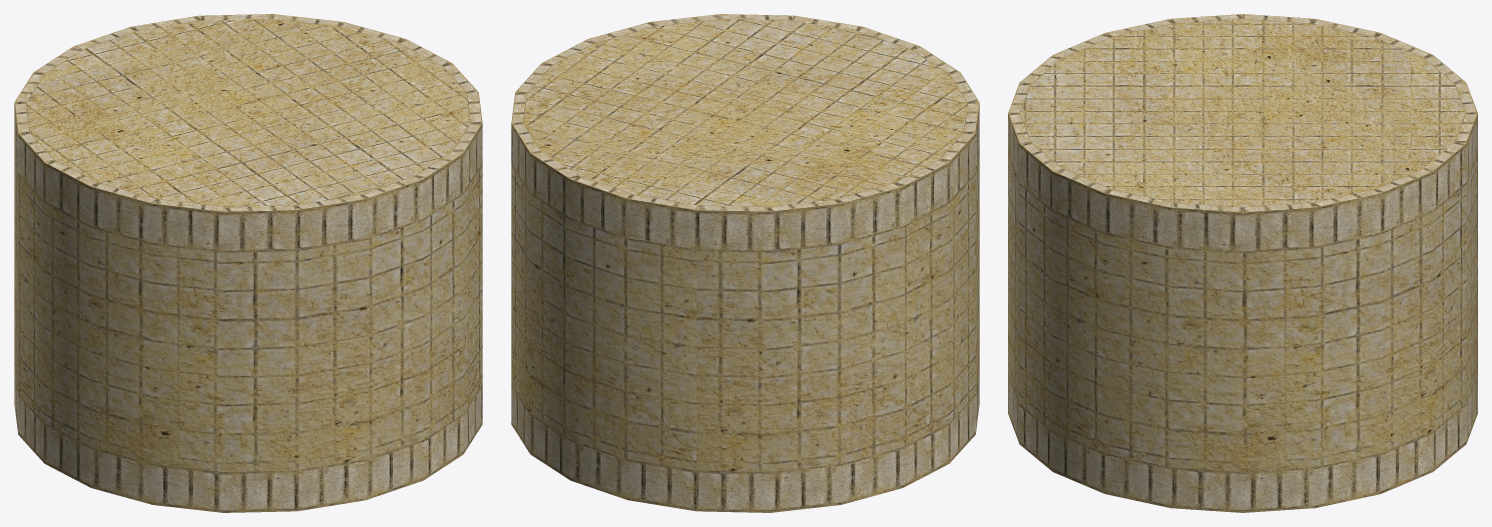
File: desert_16cylinder.dae
The picture shows the model from 3 angles, left to right: view 1: azimuth 30°, elevation 25°; view 2: azimuth 150°, elevation 25°; view 3: azimuth 270°, elevation 25°; orthographic projection.
Visible parts, largest first — view 1: desert_16cylinder; view 2: desert_16cylinder; view 3: desert_16cylinder.
Boxes of the visible parts, x1=… form: desert_16cylinder: x1=14, y1=14, x2=482, y2=512; desert_16cylinder: x1=511, y1=14, x2=979, y2=512; desert_16cylinder: x1=1008, y1=14, x2=1477, y2=512.
Bounding box in the file's own units: 3.64 × 3.64 × 2.57.
2 materials, 2 textured.
